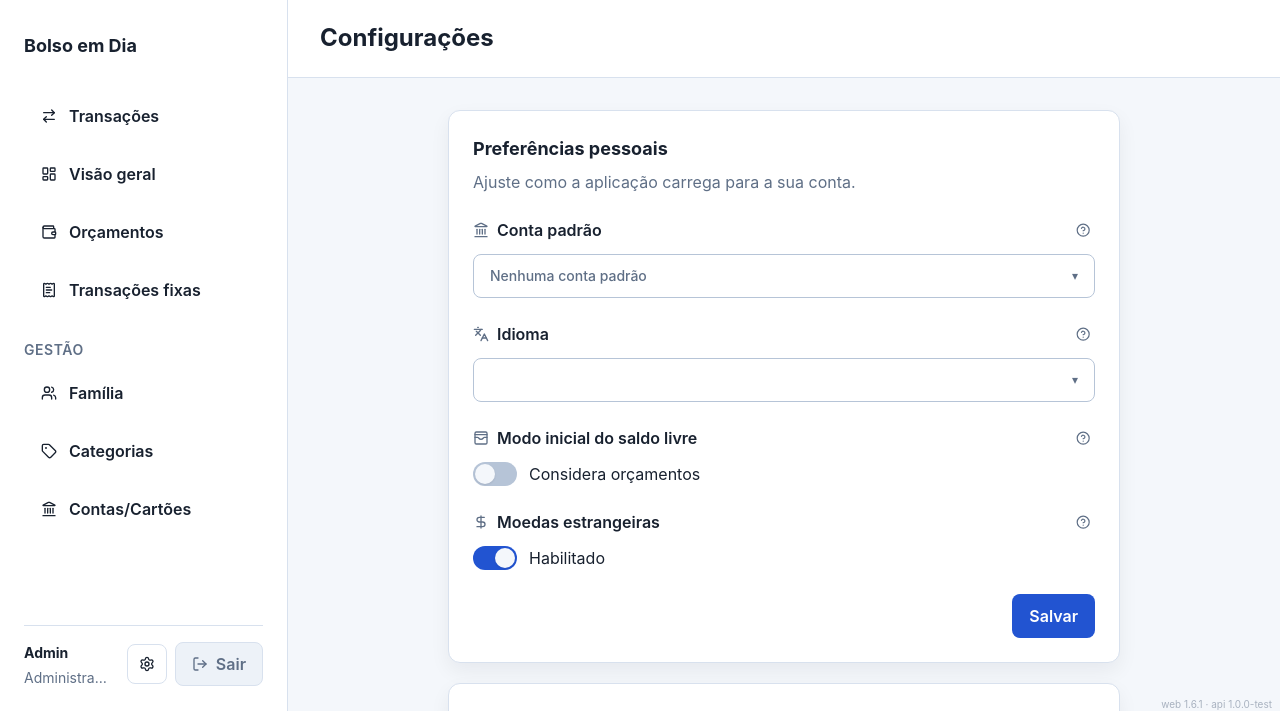
it: UserSettingsPage › saves the foreign currency preference when disabling it
The width and height of the screenshot is (1280, 711).
Click the switch labelled "Habilitado".
click(539, 558)  # box [473,546,605,570]
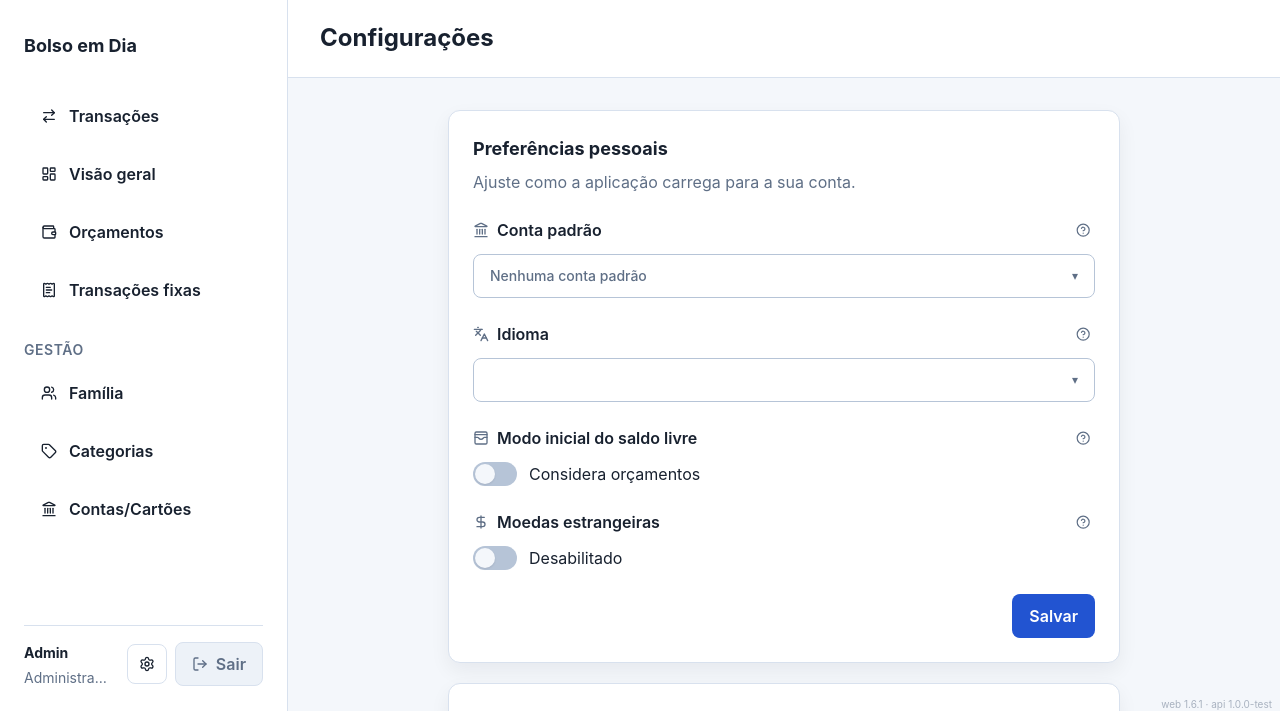
Click the button "Salvar".
click(1054, 616)  # box [1012,594,1095,638]
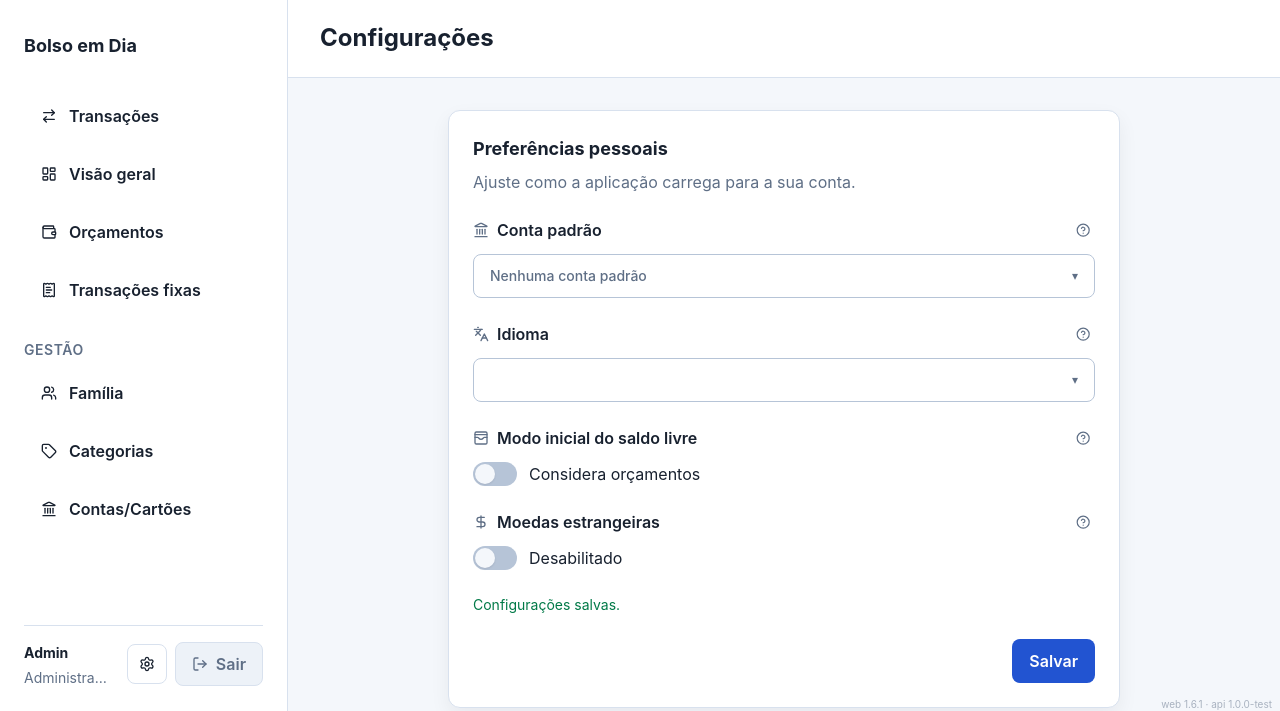
Expected: the text "Configurações salvas." is shown, [473,596,620,613]
